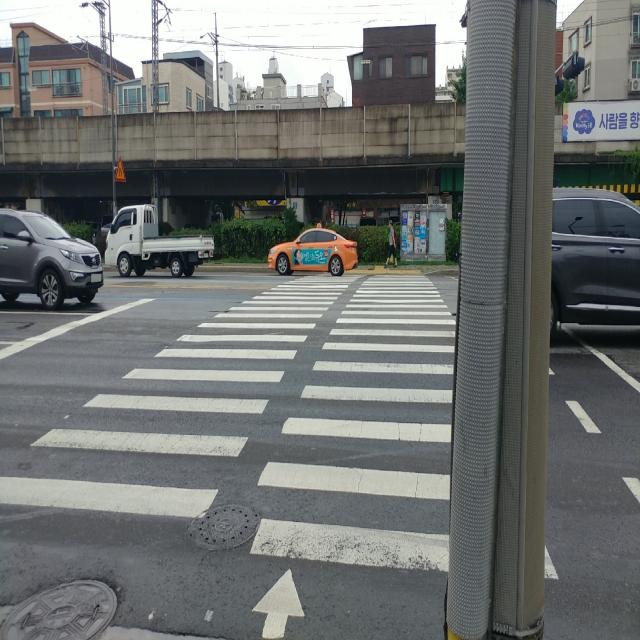횡단보도: (0, 267, 561, 640)
